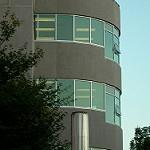building: (0, 0, 124, 149)
